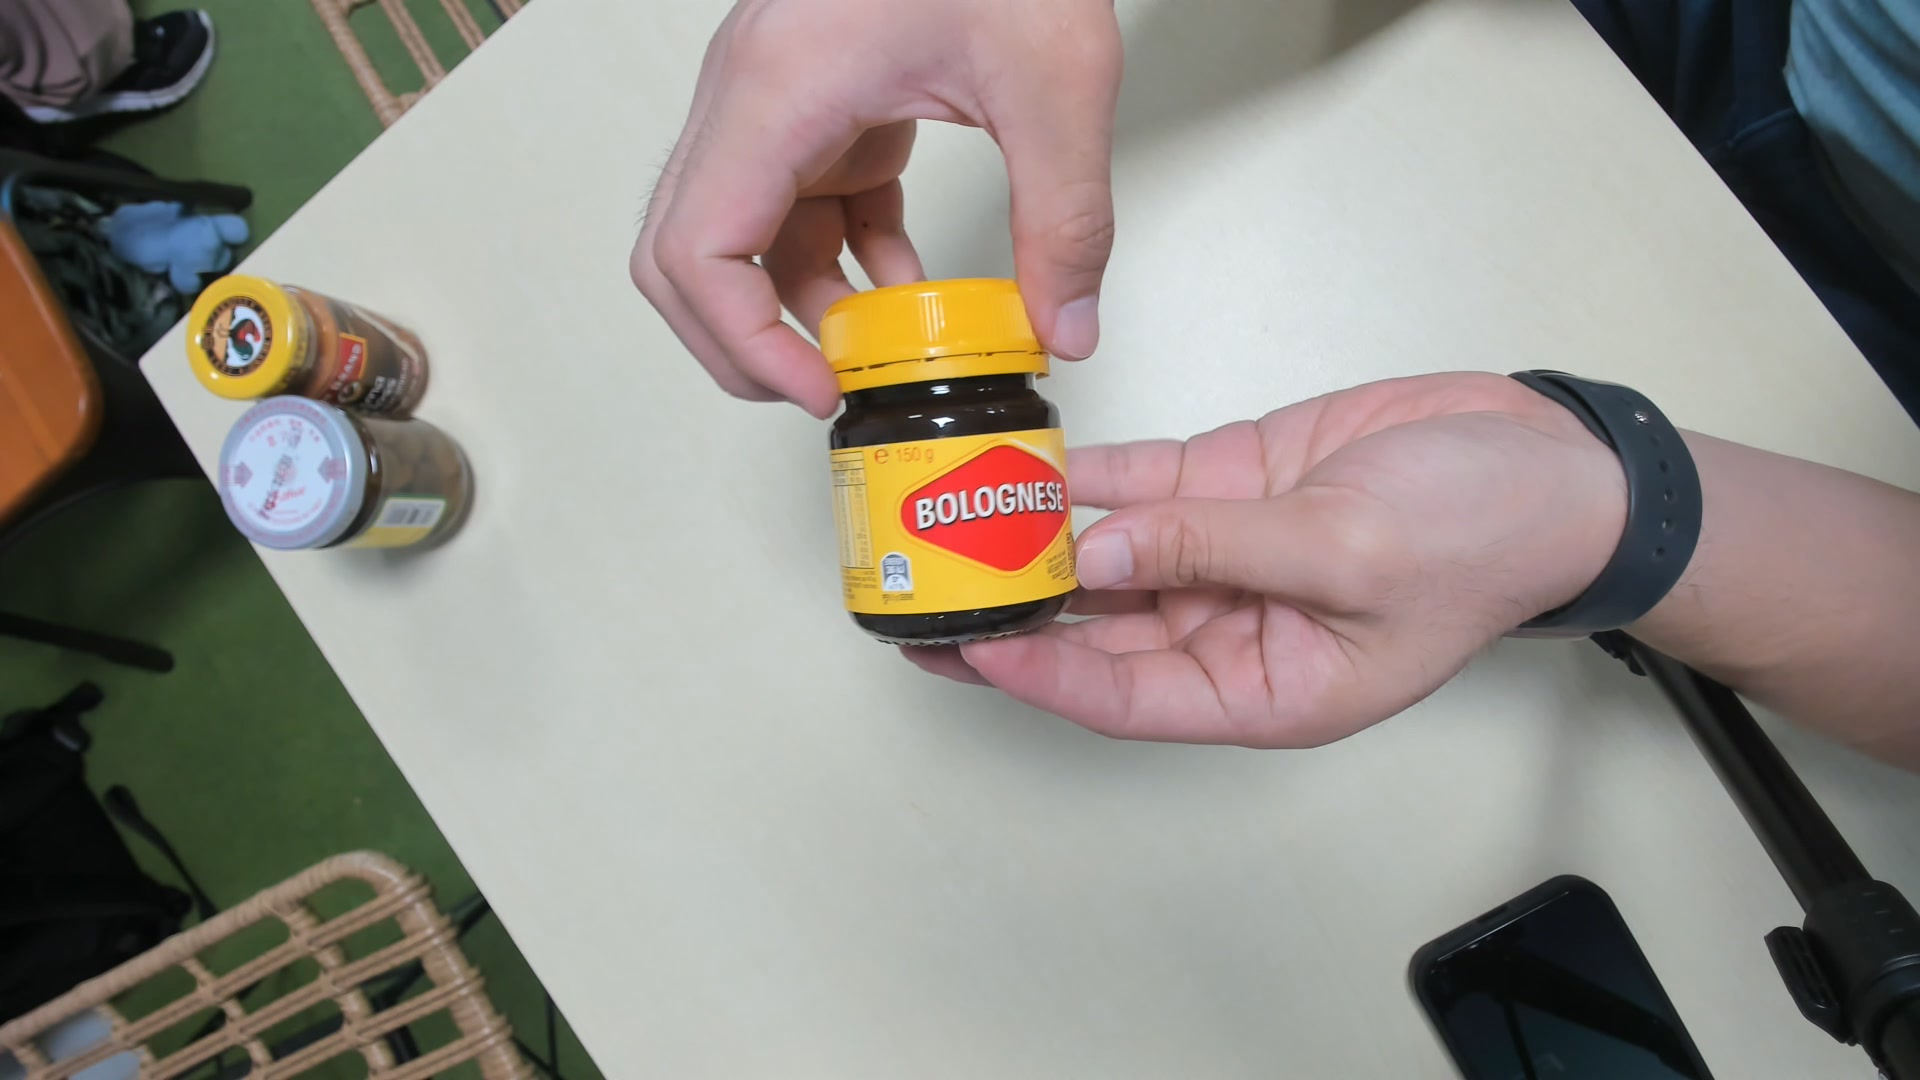OtherSauceDressing_200-299g_Halal_NonHealthy: (818, 285, 1079, 637)
